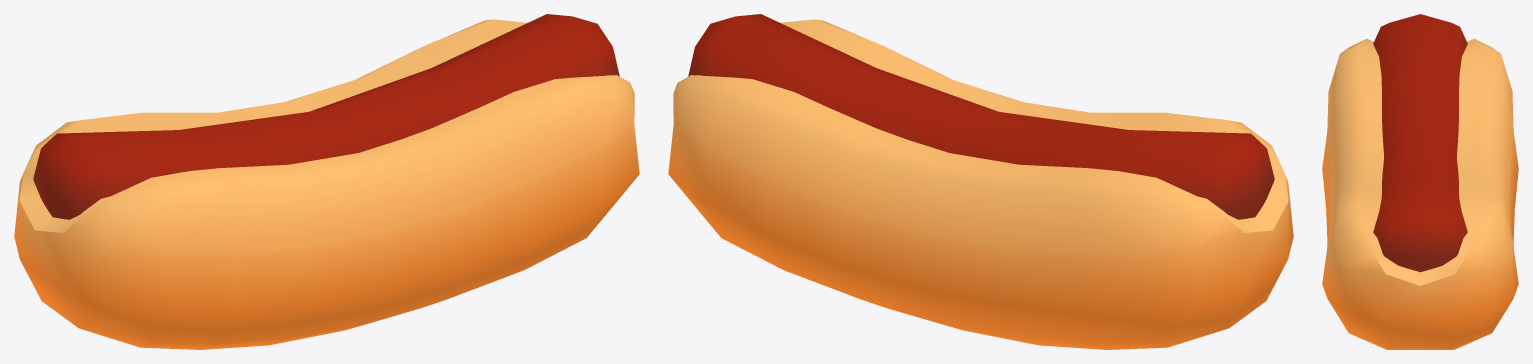
Rendered from hotdog.glb.
3 views of the same model, side by side, from view 1: azimuth 30°, elevation 25°; view 2: azimuth 150°, elevation 25°; view 3: azimuth 270°, elevation 25° (orthographic). The views are drawn at different scales.
Visible parts, largest first — view 1: F_Europe_Hotdog_Hotdog_Classic_LOD0_streetFood_0; view 2: F_Europe_Hotdog_Hotdog_Classic_LOD0_streetFood_0; view 3: F_Europe_Hotdog_Hotdog_Classic_LOD0_streetFood_0.
Part boxes in pixels (x1,y1,x2,y2): F_Europe_Hotdog_Hotdog_Classic_LOD0_streetFood_0: (14, 14, 639, 349); F_Europe_Hotdog_Hotdog_Classic_LOD0_streetFood_0: (668, 14, 1293, 349); F_Europe_Hotdog_Hotdog_Classic_LOD0_streetFood_0: (1322, 14, 1518, 349).
Size of the model in its own units: 0.2827 by 0.1119 by 0.1045.
Materials: 1 (1 with a texture image).
